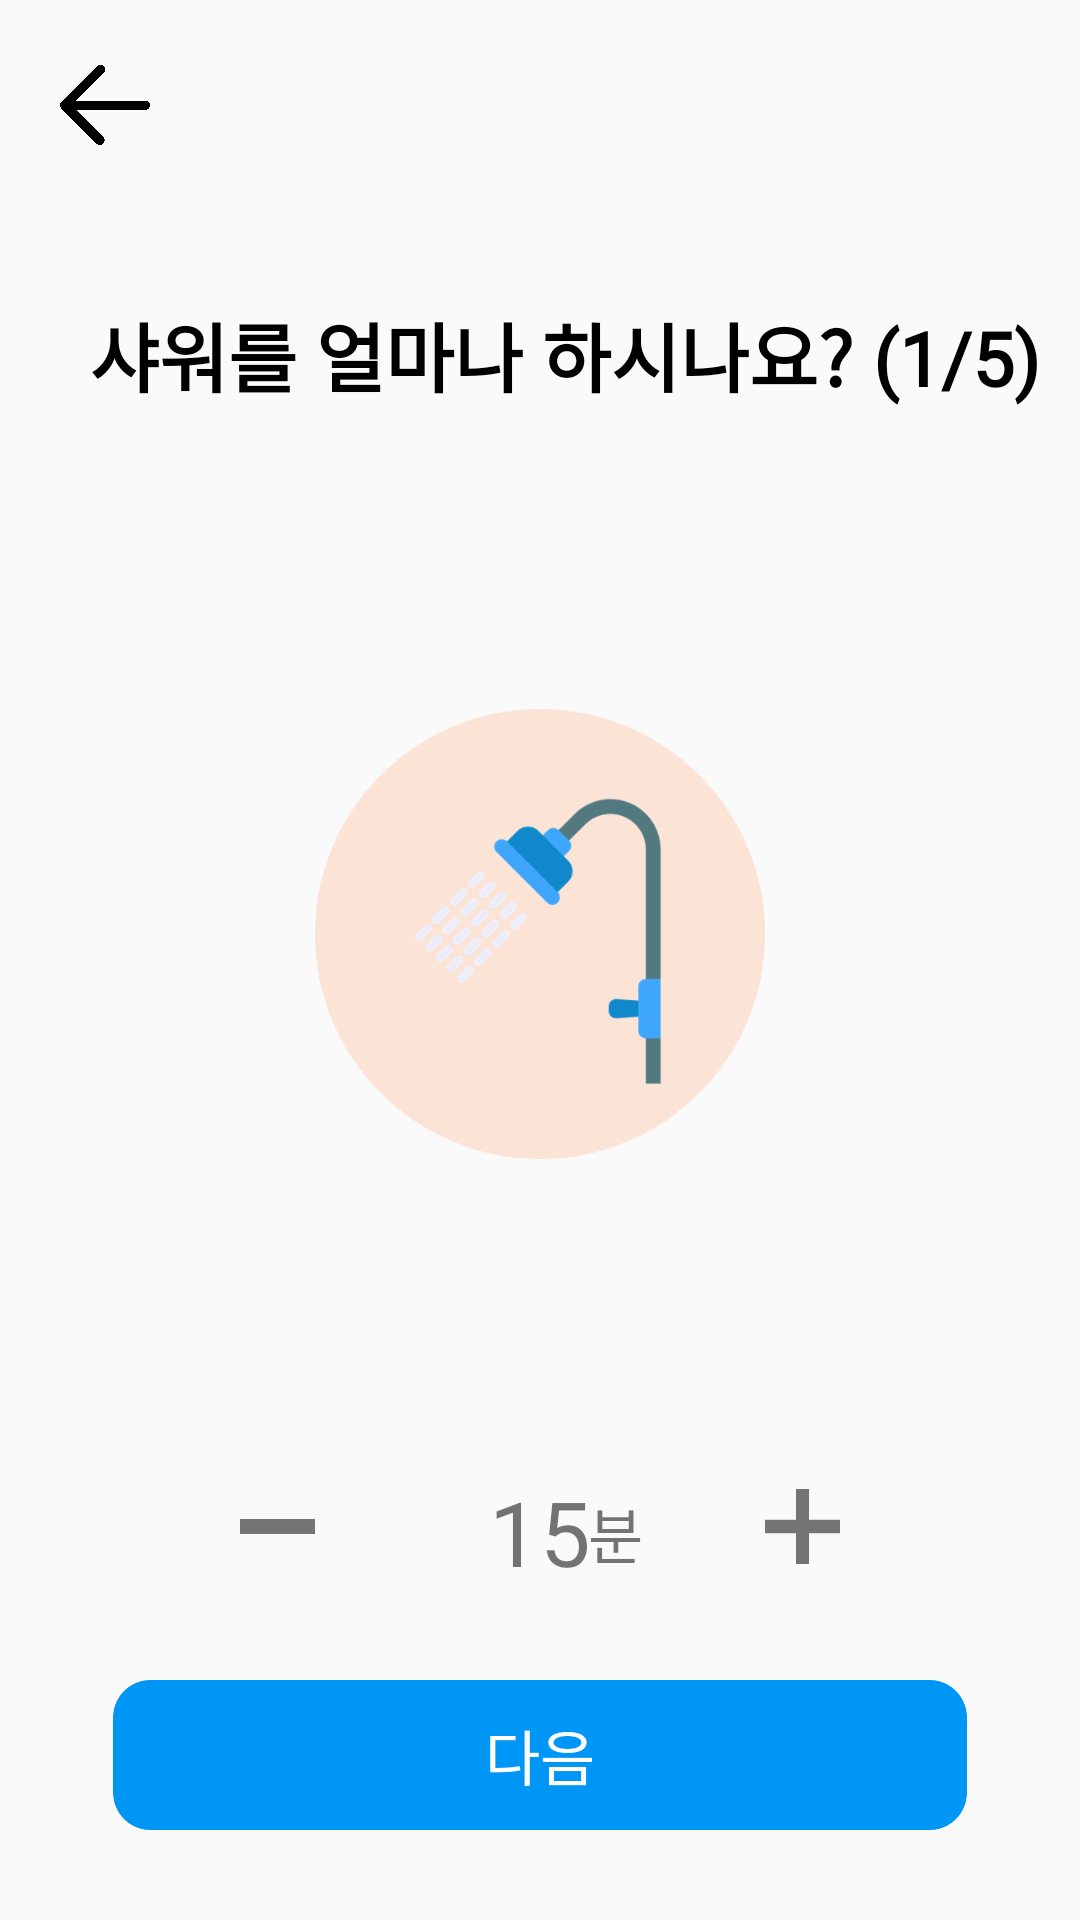

Screen size 1080*1920. Icon name, then its center in pixels as [x,y]:
initial back: [105,105]
initial plus: [802,1526]
